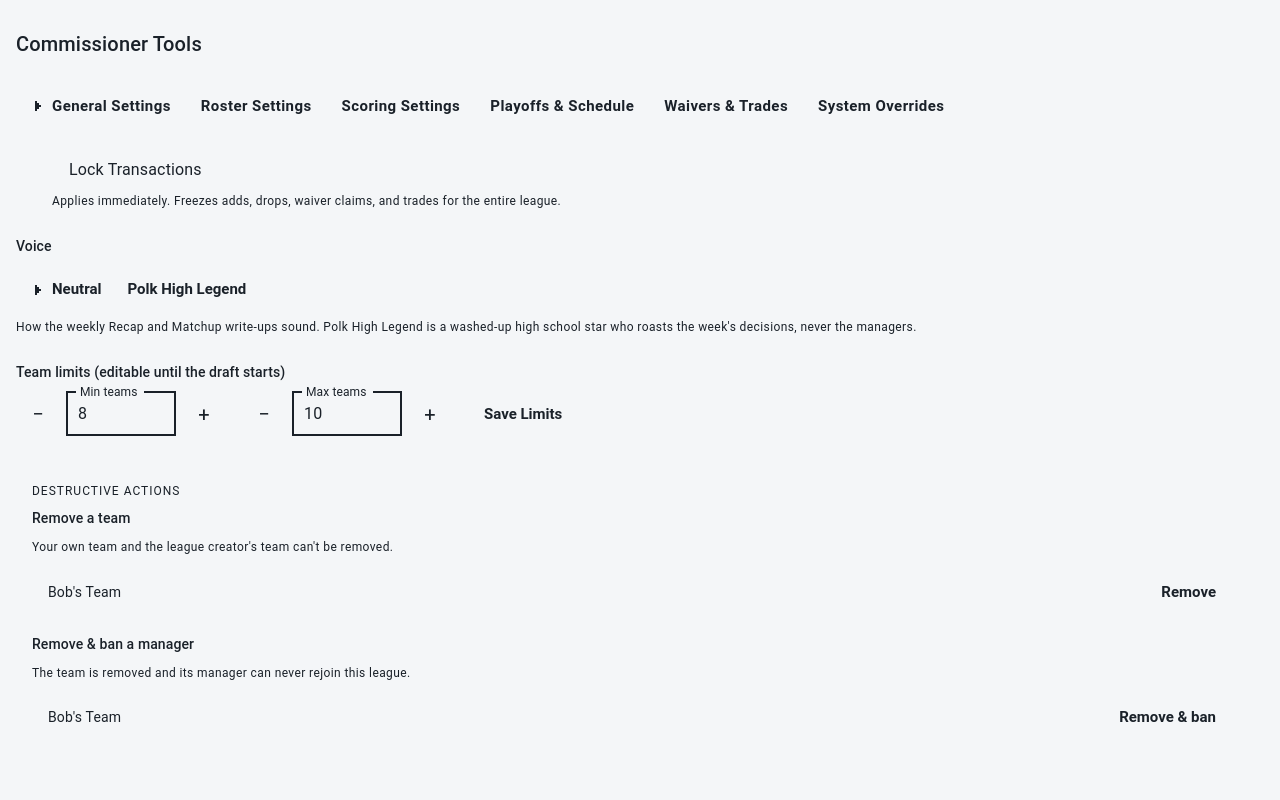
Scenario: Roster Settings renders configured slots and separates drafted spots from IR
Click the tab "Roster Settings".
click(256, 106)  # box 185,84 -> 328,128
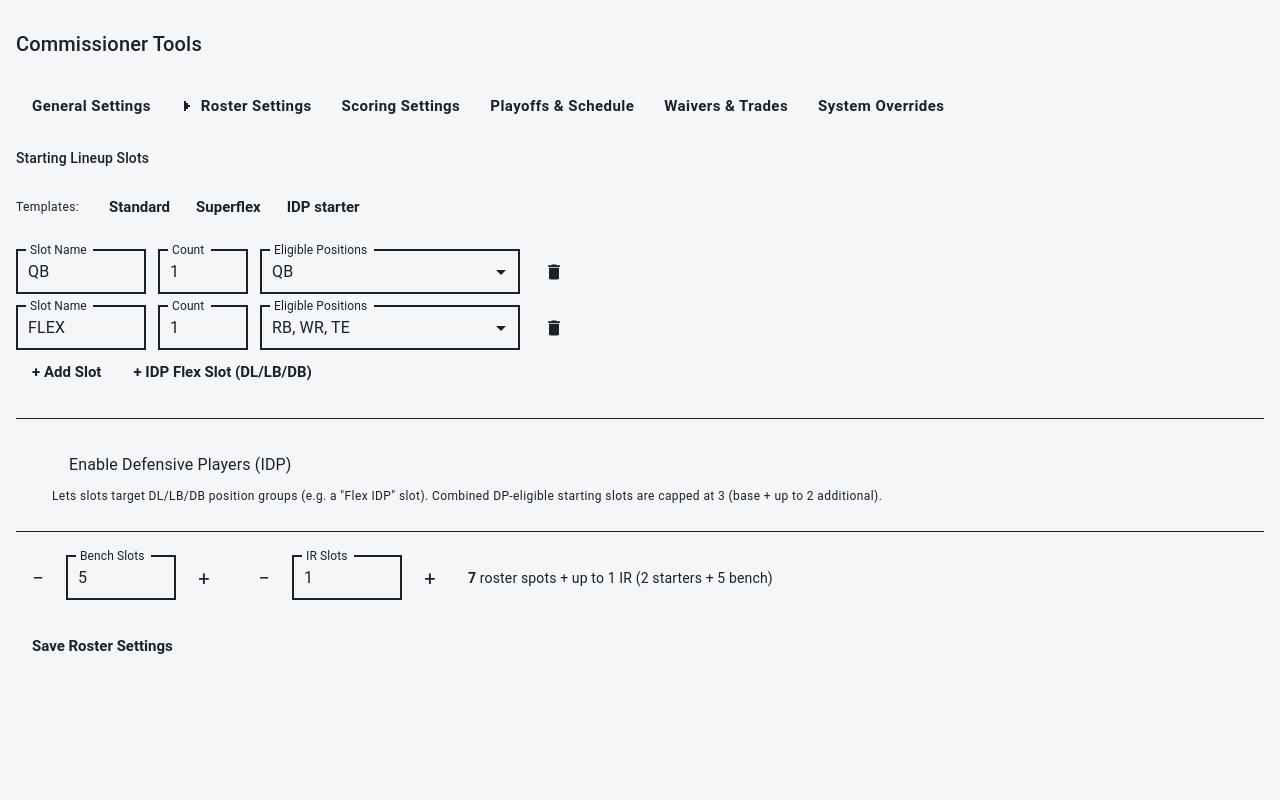
expect the number of fields labelled "Slot Name" is 2: met, box 16,250 -> 146,294; 16,306 -> 146,350
expect the text "7 roster spots + up to 1 IR (2 starters + 5 bench)" is shown: met, box 468,568 -> 773,588
